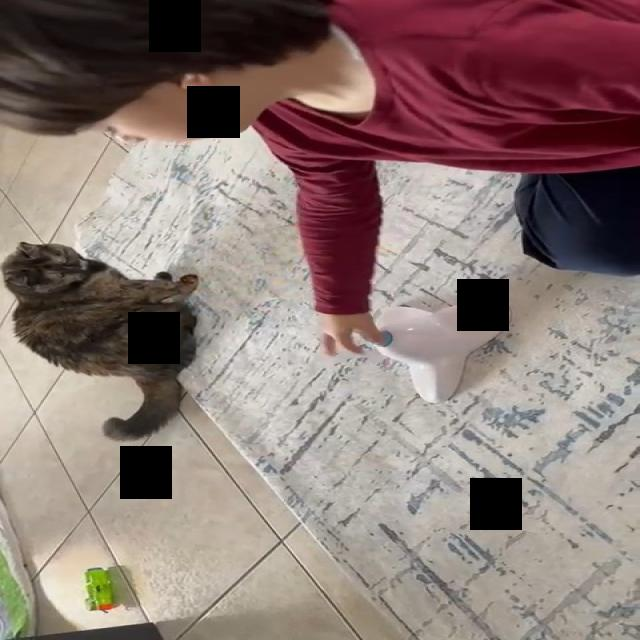authorized: (0, 240, 200, 442)
